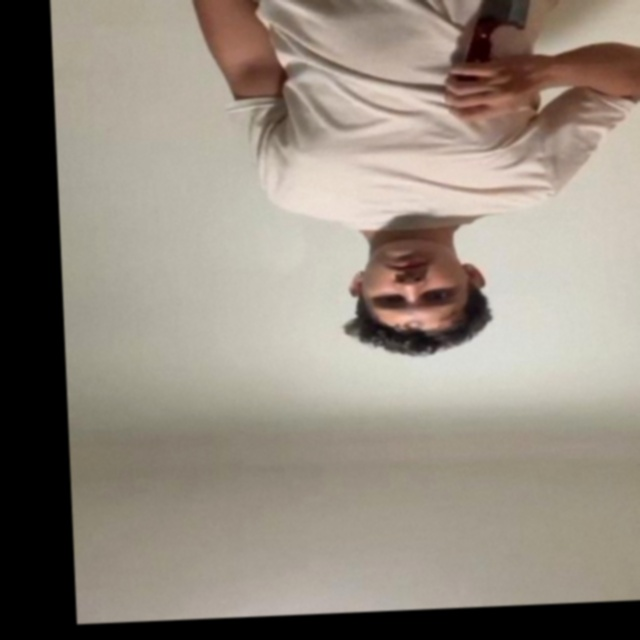Sharp-Object: (471, 0, 558, 32)
